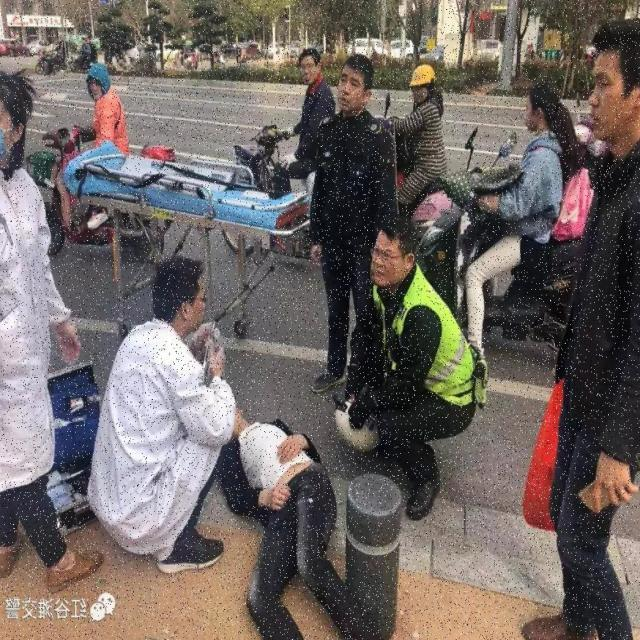fall: (229, 411, 341, 639)
